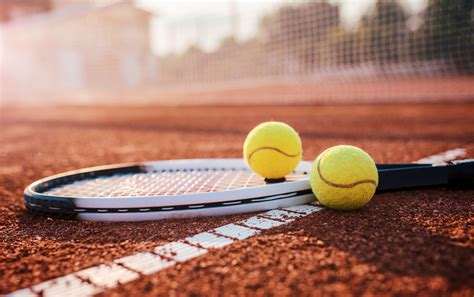tennis_ball: (310, 145, 378, 211), (243, 121, 302, 178)
